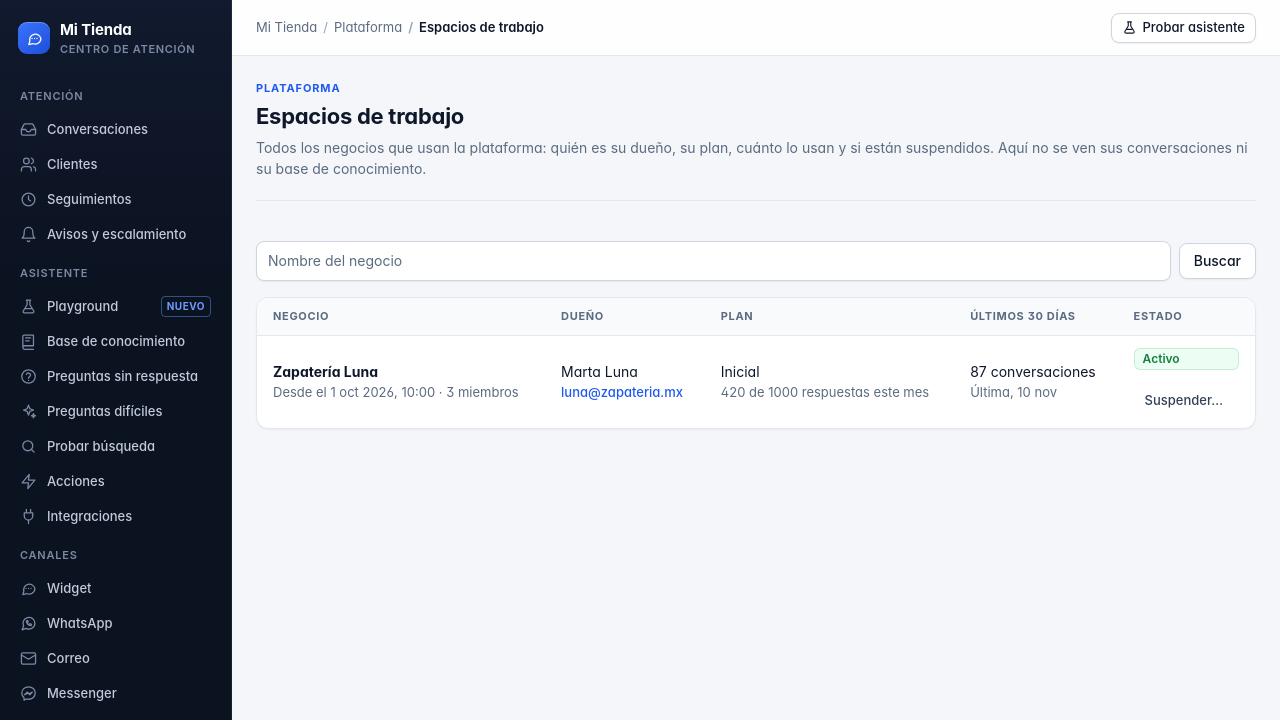
Test: Platform administration › lets whoever runs the platform see every workspace and suspend one
Check: the link "luna@zapateria.mx" is shown, box 561,384 -> 683,400
Check: the text "420 de 1000 respuestas este mes" is shown, box 721,382 -> 938,402
Click the button "Suspender…".
click(1184, 401)  # box 1134,386 -> 1234,416
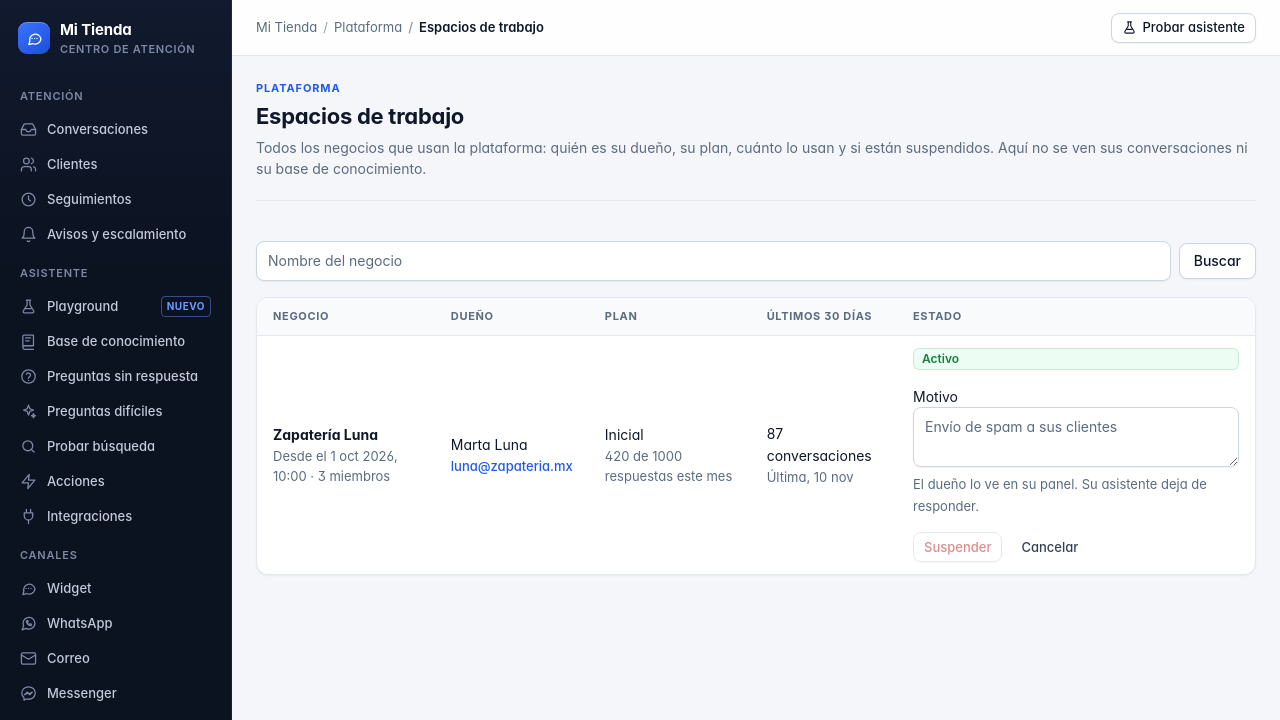
Type "Envío de spam" into the text box labelled "Motivo".
click(1076, 437); type("Envío de spam")  # box 913,407 -> 1239,467
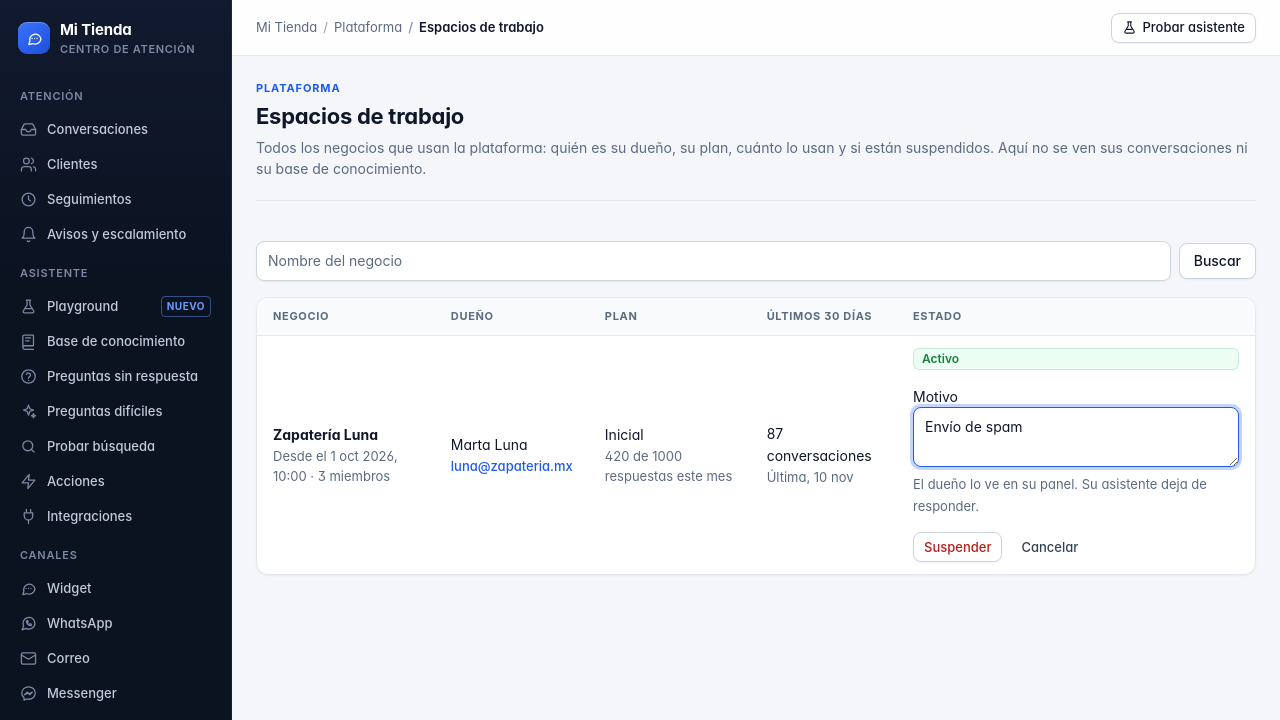
Click the button "Suspender".
click(958, 547)  # box 913,532 -> 1002,562
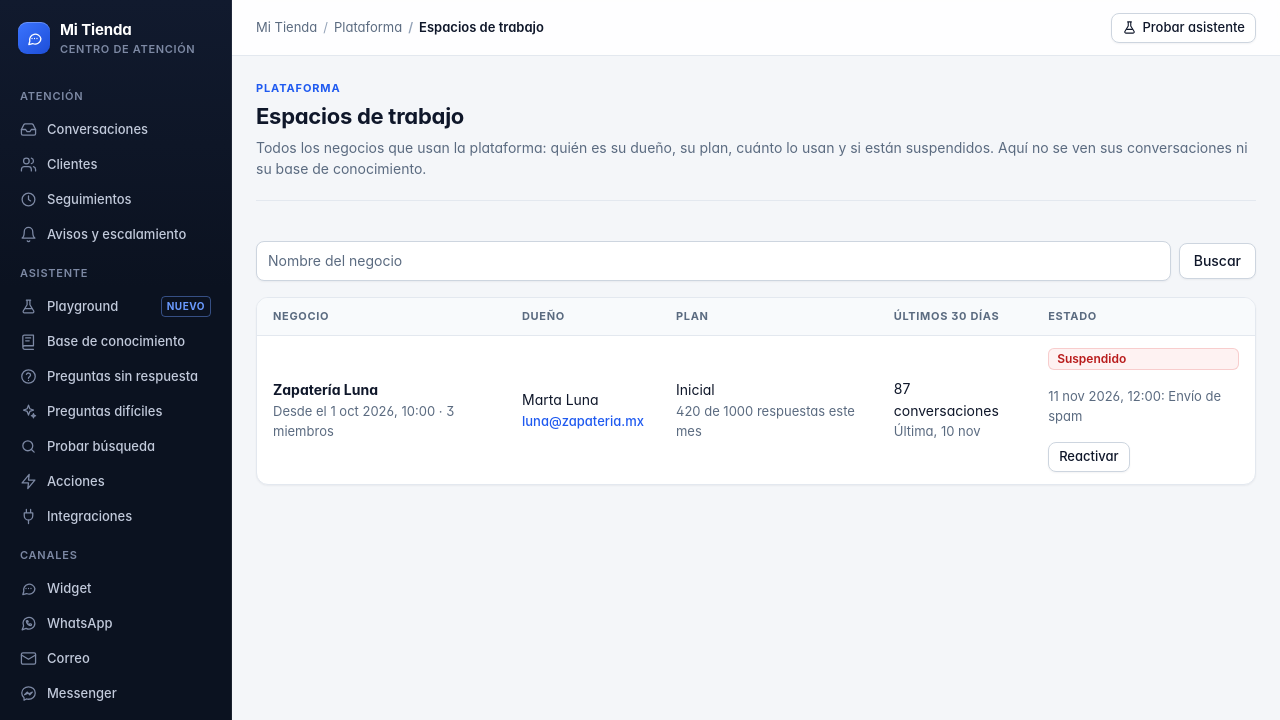
Check: the text "Suspendido" is shown, box 1048,348 -> 1239,370
Click the button "Reactivar".
click(1089, 457)  # box 1048,442 -> 1130,472
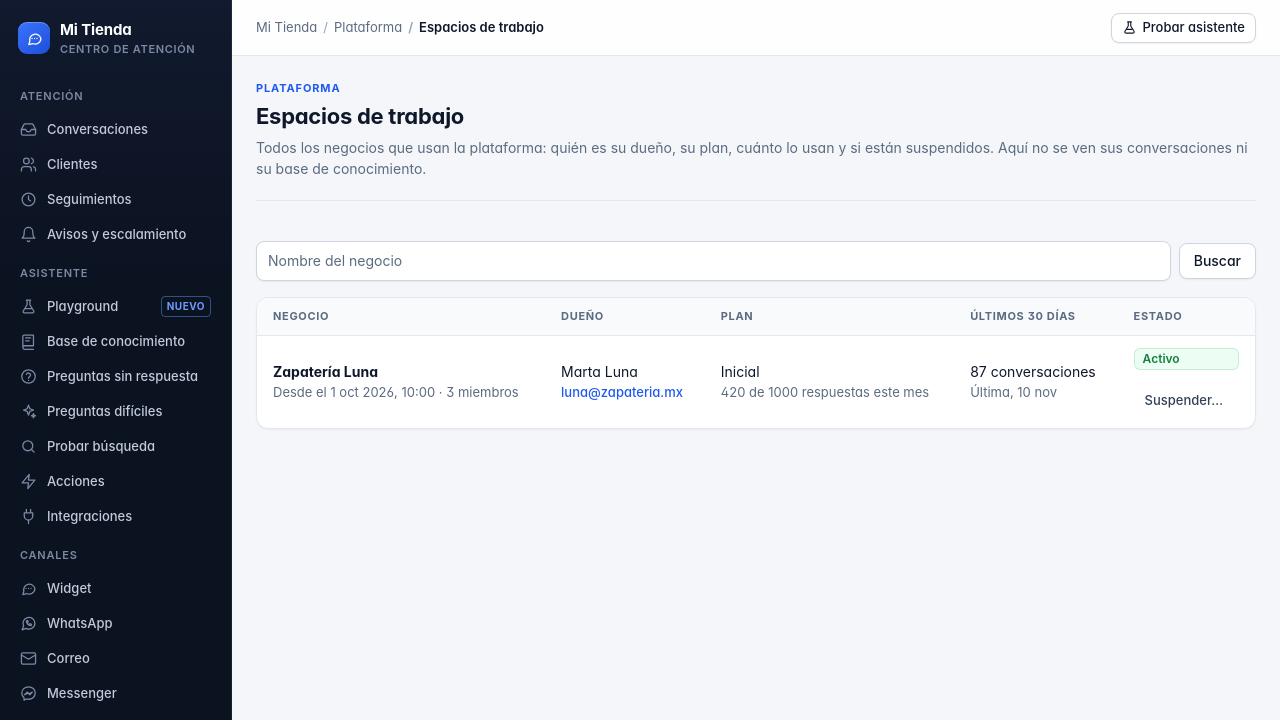
Check: the text "Activo" is shown, box 1134,348 -> 1239,370
